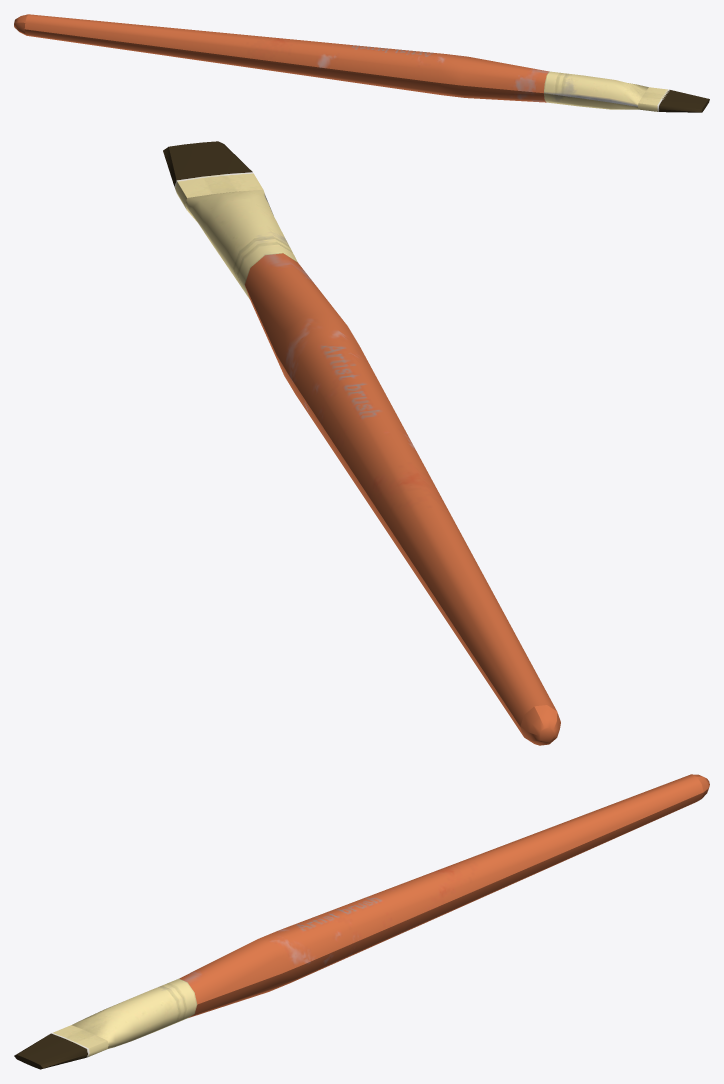
The model's file is ArtBrush1_SM.fbx.
3 renders of one model, top to bottom at view 1: azimuth 30°, elevation 25°; view 2: azimuth 150°, elevation 25°; view 3: azimuth 270°, elevation 25°, orthographic. The views are drawn at different scales.
Parts seen in each view (by area): view 1: ArtBrush1_SM; view 2: ArtBrush1_SM; view 3: ArtBrush1_SM.
Part boxes in pixels (bbox=[...]): ArtBrush1_SM: bbox=[14, 14, 709, 112]; ArtBrush1_SM: bbox=[163, 141, 560, 745]; ArtBrush1_SM: bbox=[14, 774, 709, 1069].
Bounding box in the file's own units: 11.71 × 0.9086 × 12.
